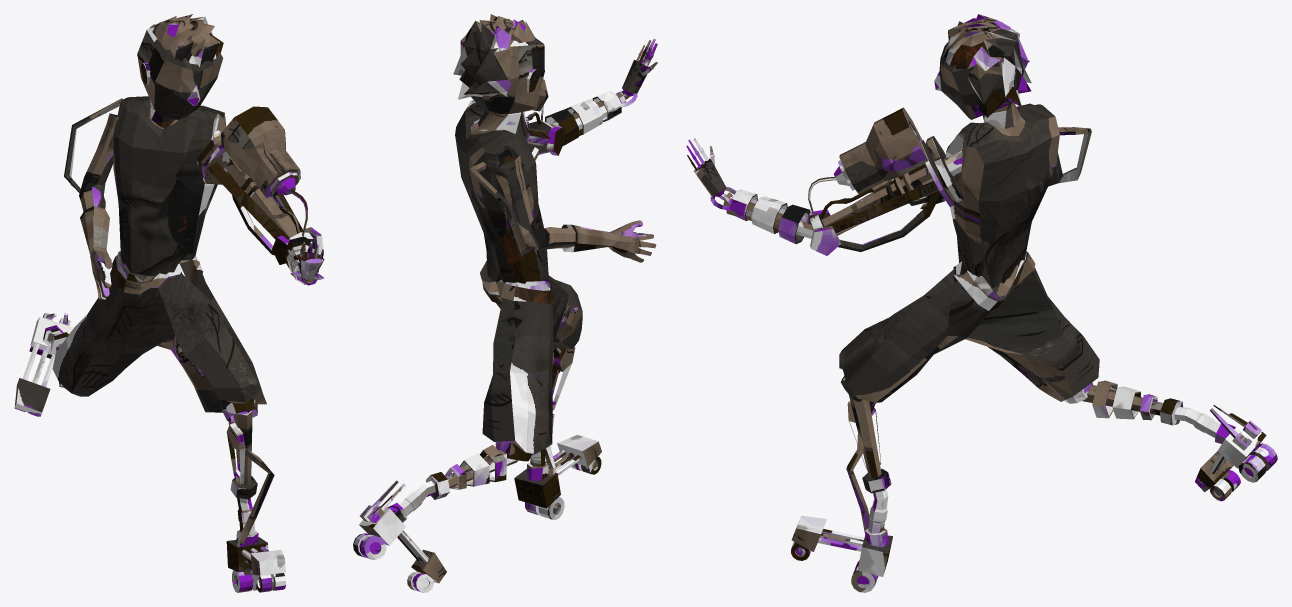
The model's file is CyborgFINALAnimation_000018.obj.
3 views of the same model, side by side, from view 1: azimuth 30°, elevation 25°; view 2: azimuth 150°, elevation 25°; view 3: azimuth 270°, elevation 25° (orthographic). The views are drawn at different scales.
Visible parts, largest first — view 1: CyborgMesh_Cube.002; view 2: CyborgMesh_Cube.002; view 3: CyborgMesh_Cube.002.
Boxes of the visible parts, x1,y1,x2,y2 form: CyborgMesh_Cube.002: (14,14,324,592); CyborgMesh_Cube.002: (353,14,657,592); CyborgMesh_Cube.002: (686,14,1277,592).
Bounding box in the file's own units: 3.08 × 8.96 × 8.6.
